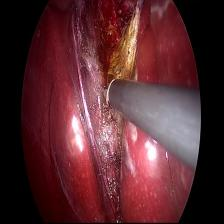Hook: (95, 75, 118, 112)
